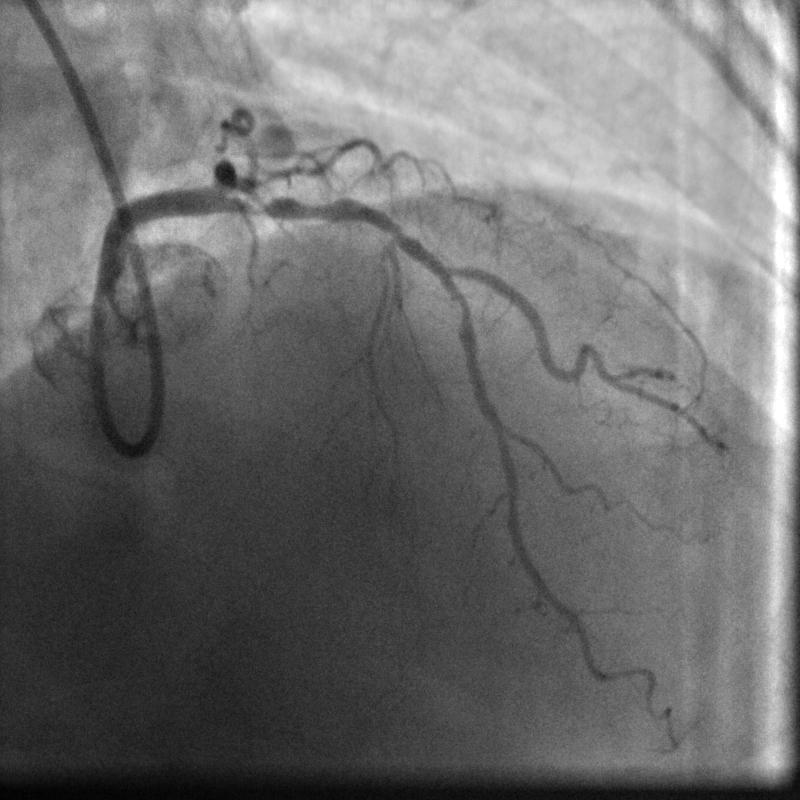Stenosis: (252, 183, 345, 219)
